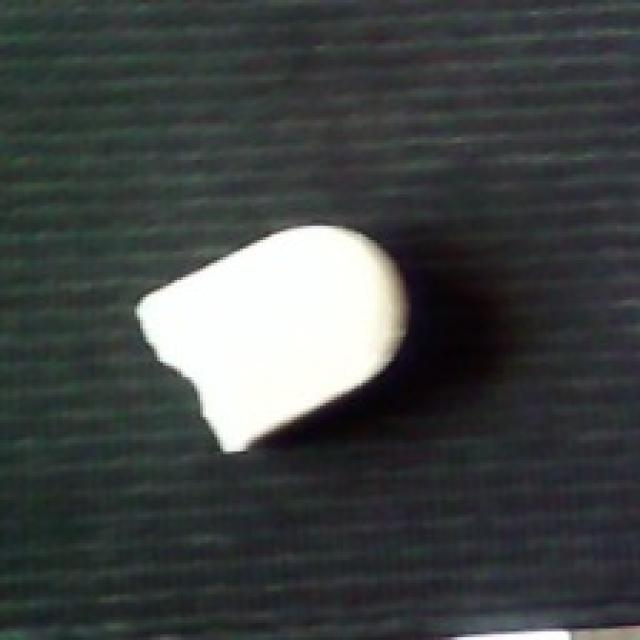defected: (129, 217, 414, 460)
